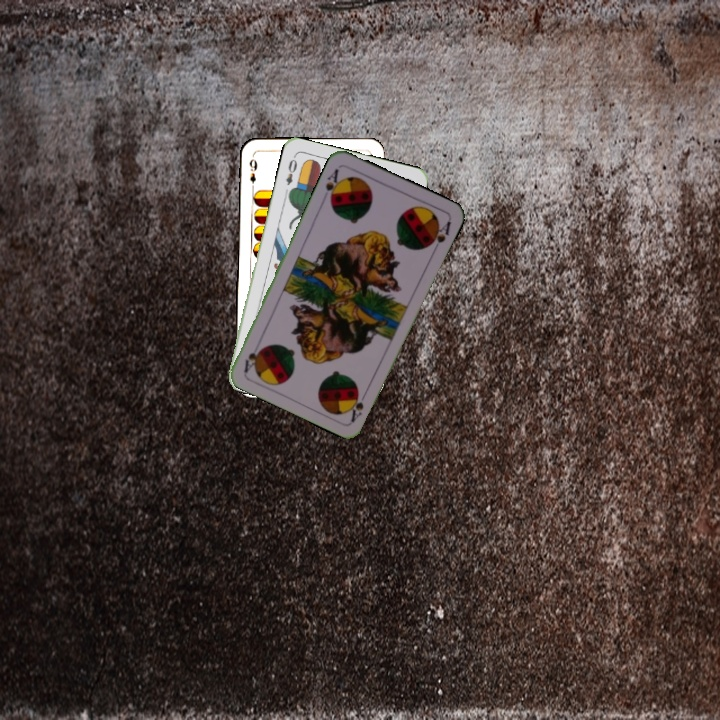E9: (246, 155, 259, 193)
EO: (282, 152, 300, 188)
SA: (319, 164, 344, 205), (347, 386, 371, 424)
